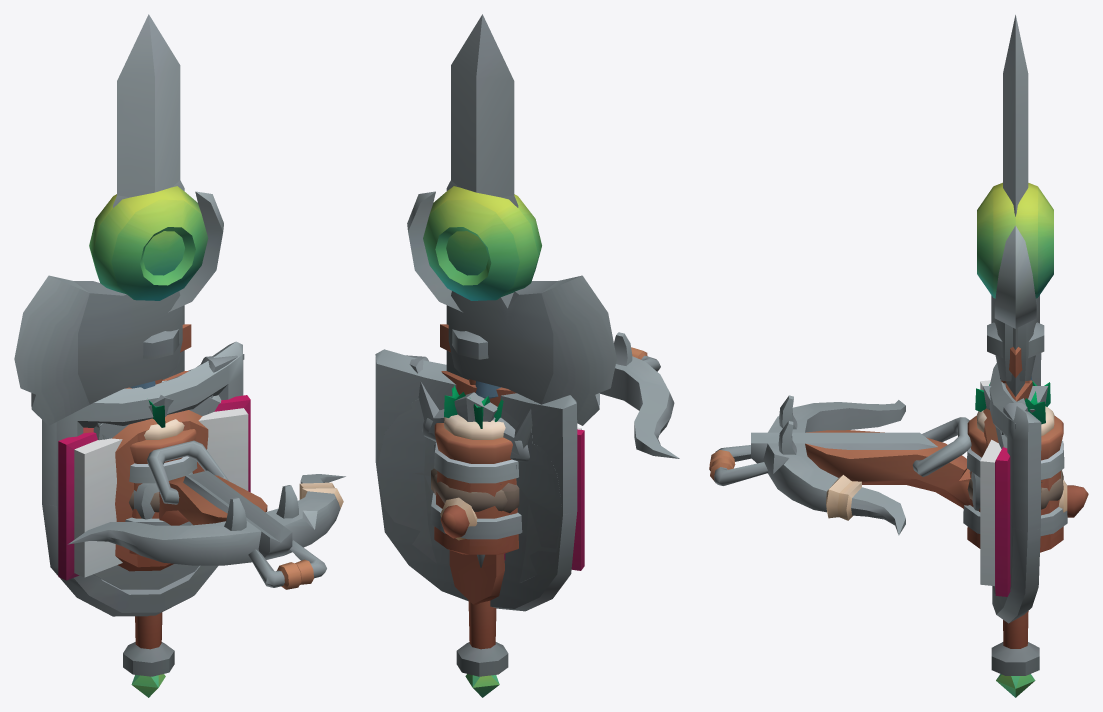
The model's file is items.glb.
3 renders of one model, left to right at view 1: azimuth 30°, elevation 25°; view 2: azimuth 150°, elevation 25°; view 3: azimuth 270°, elevation 25°, orthographic.
Parts seen in each view (by area): view 1: crossbow_2handed, axe_1handed, staff, shield_badge_color, spellbook_open, sword_2handed, shield_round, mug_full; view 2: shield_badge_color, axe_1handed, staff, sword_2handed, shield_round, mug_full, crossbow_2handed, quiver, spellbook_open, smokebomb, sword_1handed, arrow_bundle; view 3: crossbow_2handed, staff, shield_badge_color, sword_2handed, spellbook_open, mug_full, axe_1handed, shield_round, arrow_bundle.
Boxes of the visible parts, bbox=[...] form: crossbow_2handed: bbox=[68, 440, 345, 589]; axe_1handed: bbox=[14, 275, 182, 425]; staff: bbox=[89, 186, 223, 697]; shield_badge_color: bbox=[42, 341, 243, 616]; spellbook_open: bbox=[58, 395, 250, 580]; sword_2handed: bbox=[96, 14, 244, 439]; shield_round: bbox=[49, 380, 221, 589]; mug_full: bbox=[125, 419, 197, 554]; shield_badge_color: bbox=[375, 349, 577, 611]; axe_1handed: bbox=[448, 275, 616, 425]; staff: bbox=[407, 186, 541, 697]; sword_2handed: bbox=[406, 14, 534, 455]; shield_round: bbox=[377, 399, 565, 583]; mug_full: bbox=[430, 414, 522, 554]; crossbow_2handed: bbox=[440, 332, 679, 540]; quiver: bbox=[449, 388, 504, 604]; spellbook_open: bbox=[434, 427, 584, 570]; smokebomb: bbox=[432, 474, 507, 511]; sword_1handed: bbox=[422, 180, 529, 461]; arrow_bundle: bbox=[444, 385, 501, 567]; crossbow_2handed: bbox=[709, 395, 1088, 535]; staff: bbox=[977, 182, 1053, 697]; shield_badge_color: bbox=[989, 353, 1041, 623]; sword_2handed: bbox=[983, 15, 1048, 445]; spellbook_open: bbox=[980, 380, 1010, 596]; mug_full: bbox=[963, 406, 1067, 552]; axe_1handed: bbox=[991, 295, 1039, 381]; shield_round: bbox=[969, 383, 1041, 586]; arrow_bundle: bbox=[975, 381, 1050, 424].
Size of the model in its own units: 1.22 by 2.86 by 1.44.
Materials: 4 (4 with a texture image).
